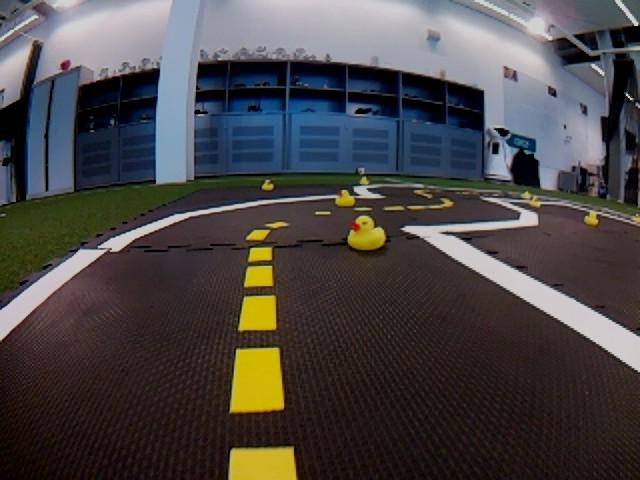Duckies: (348, 216, 386, 250), (335, 190, 356, 206), (584, 211, 600, 226), (262, 181, 274, 191), (530, 198, 541, 208), (520, 192, 531, 199), (360, 176, 368, 185), (633, 213, 640, 222)
